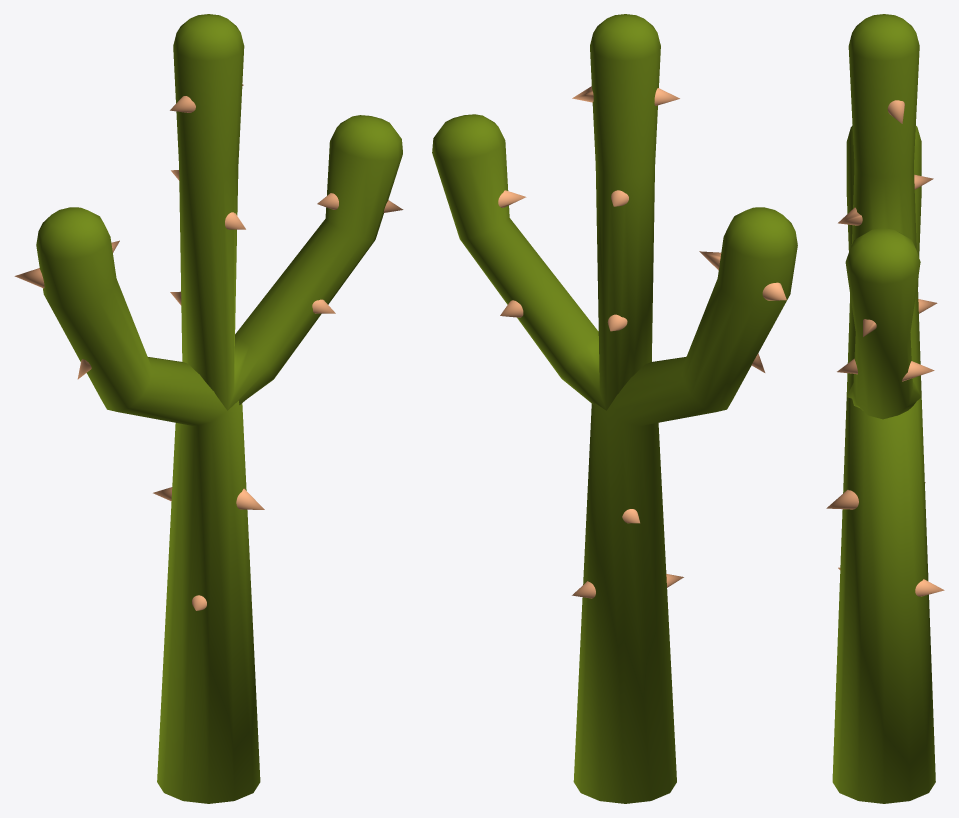
Rendered from cacto dois.fbx.
3 views of the same model, side by side, from view 1: azimuth 30°, elevation 25°; view 2: azimuth 150°, elevation 25°; view 3: azimuth 270°, elevation 25° (orthographic).
Visible parts, largest first — view 1: cacto; view 2: cacto; view 3: cacto.
Part boxes in pixels (x1,y1,x2,y2): cacto: (14,14,403,803); cacto: (432,14,797,803); cacto: (826,14,944,803).
Size of the model in its own units: 2256 by 4484 by 634.
